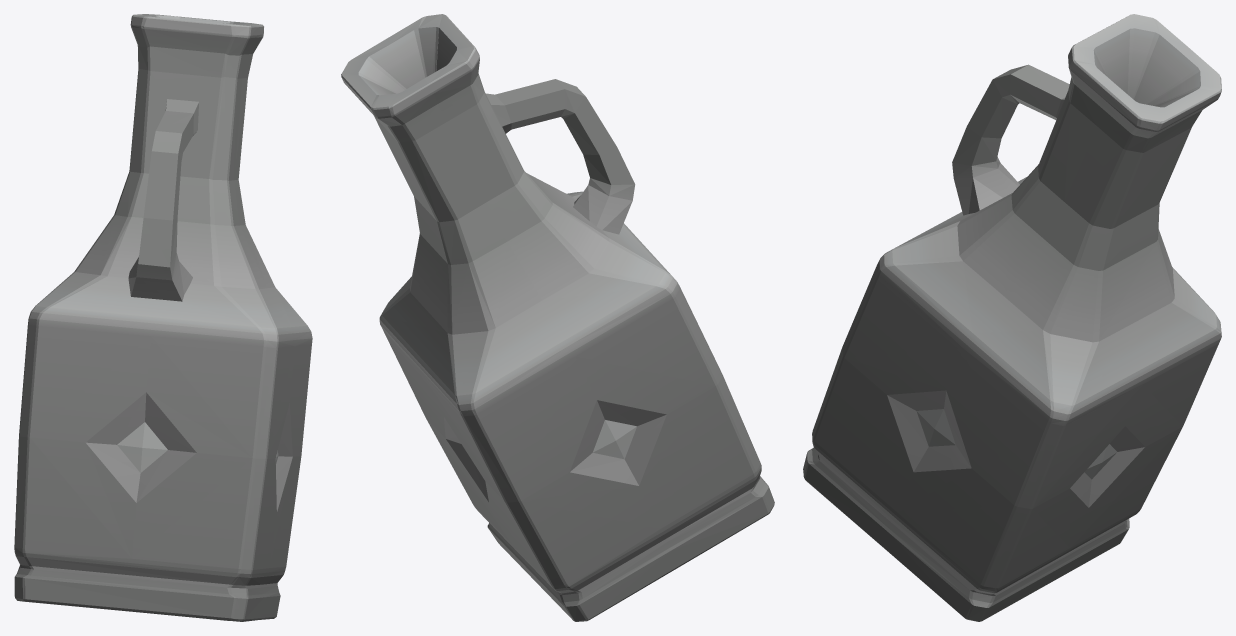
Rendered from CharSkyNPC_Prop_Booze.glb.
The picture shows the model from 3 angles, left to right: view 1: azimuth 30°, elevation 25°; view 2: azimuth 150°, elevation 25°; view 3: azimuth 270°, elevation 25°; orthographic projection. The views are drawn at different scales.
Visible parts, largest first — view 1: CharSkyNPC_Prop_Booze; view 2: CharSkyNPC_Prop_Booze; view 3: CharSkyNPC_Prop_Booze.
Boxes of the visible parts, x1,y1,x2,y2 form: CharSkyNPC_Prop_Booze: (14, 14, 312, 621); CharSkyNPC_Prop_Booze: (341, 14, 774, 621); CharSkyNPC_Prop_Booze: (803, 14, 1221, 621).
Size of the model in its own units: 2.65 by 4.17 by 2.71.
Materials: 1 (1 with a texture image).
